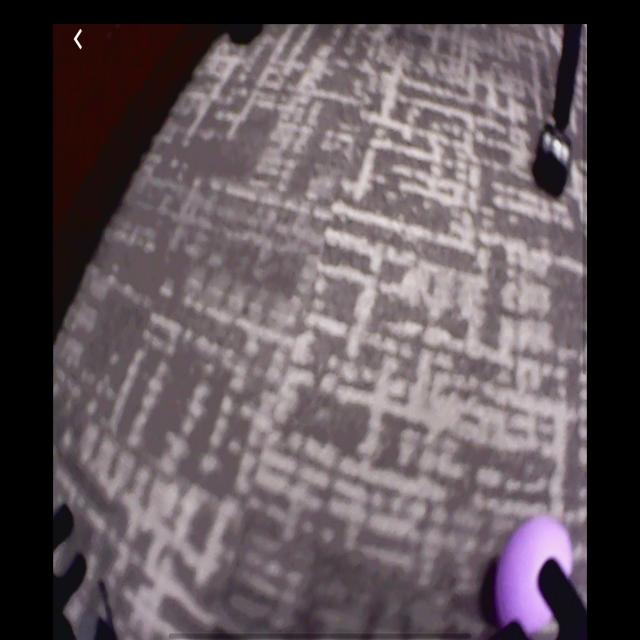ball: (496, 517, 574, 639)
